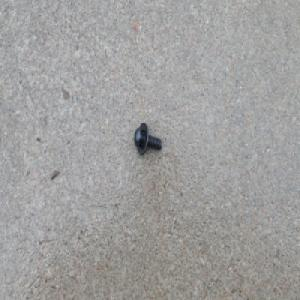BoltWasher: (133, 122, 161, 156)
